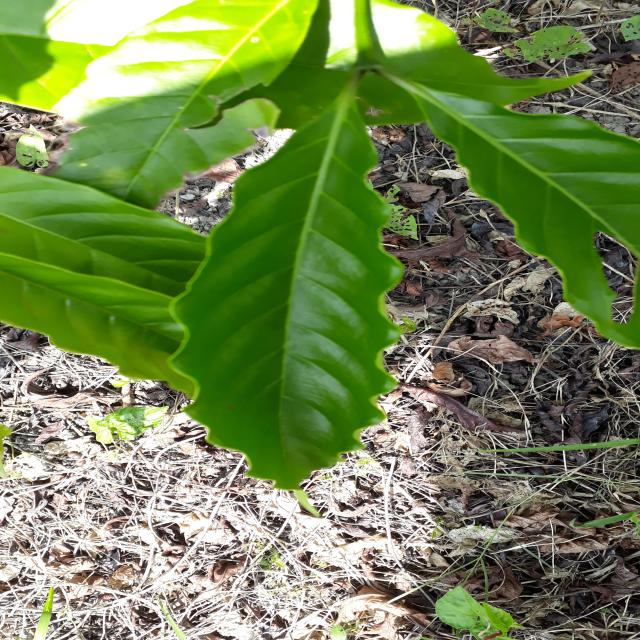Sanas: (159, 83, 406, 493)
